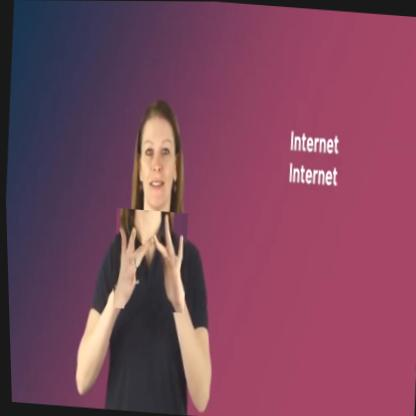Internet: (108, 208, 189, 313)
